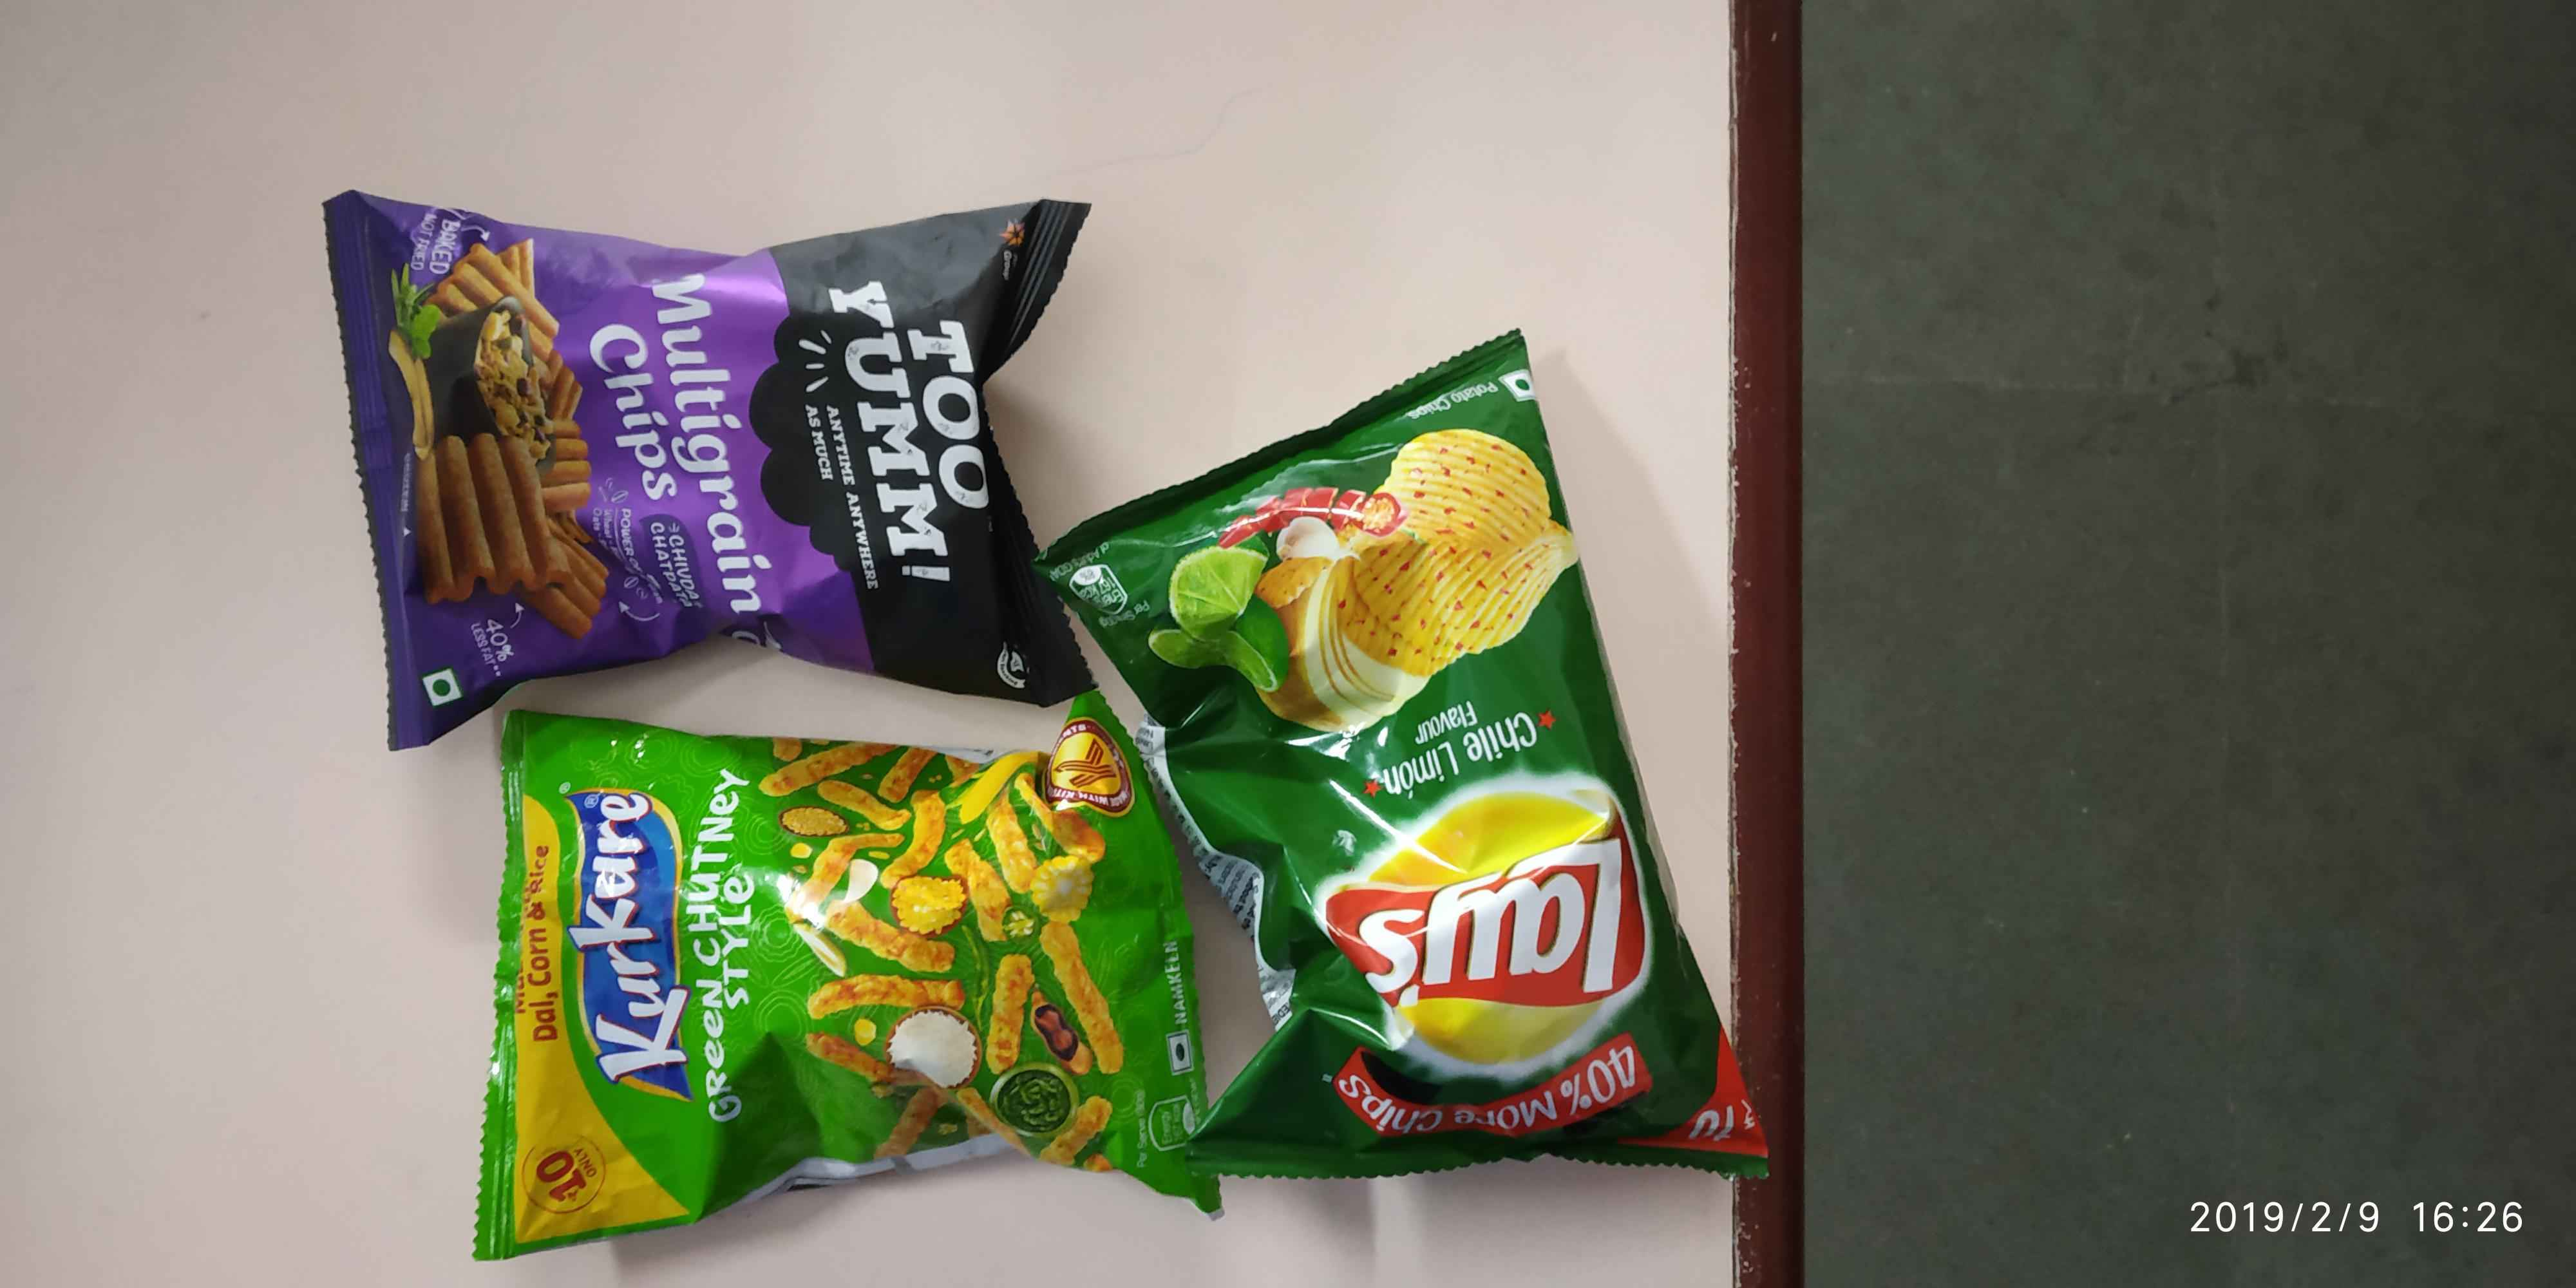Lays: (1306, 774, 1659, 1055)
kurkure: (567, 769, 705, 1119)
tooyumm: (835, 261, 996, 601)
